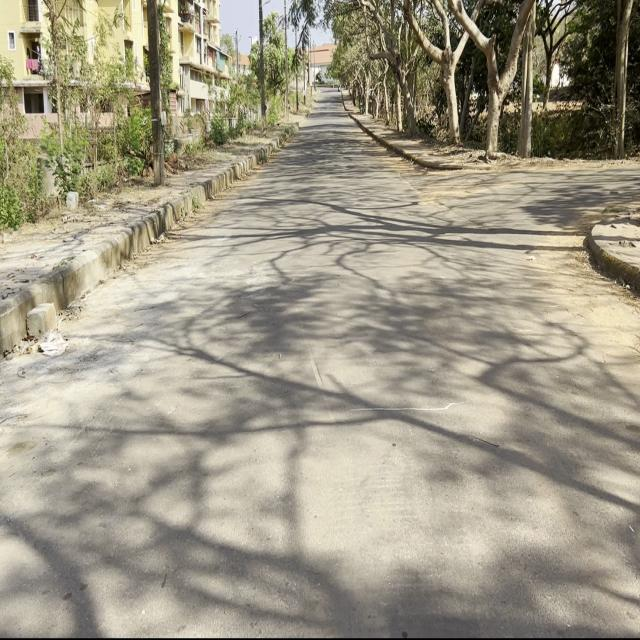Road: (4, 90, 635, 631)
